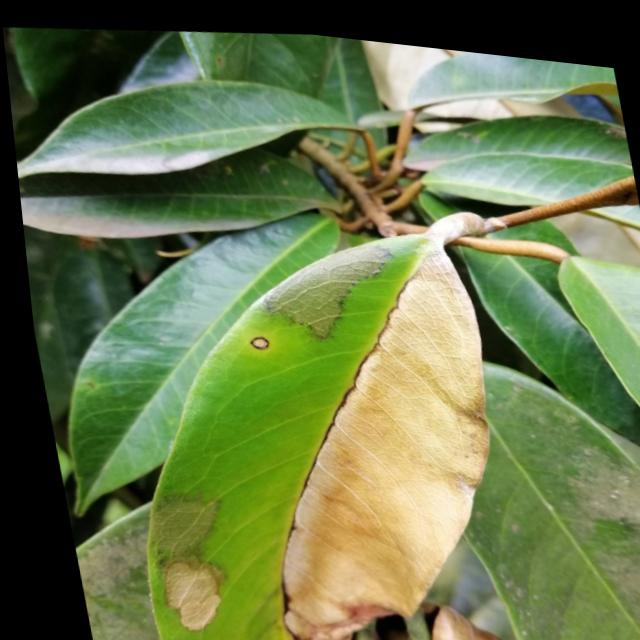Leaf Blight: (208, 224, 546, 640)
